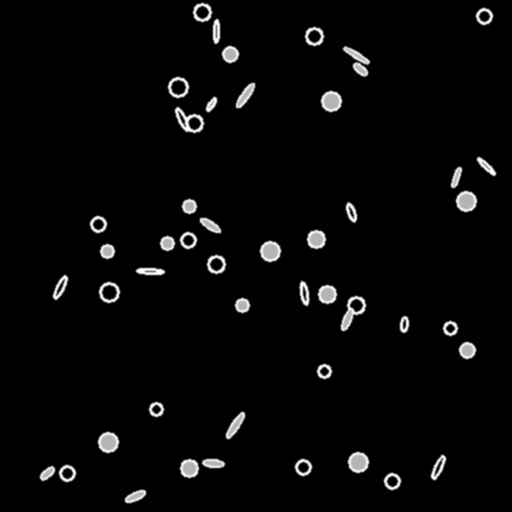pseudomonas: (224, 411, 246, 439), (234, 82, 256, 108), (342, 45, 370, 65), (51, 274, 69, 300), (198, 216, 222, 234), (430, 454, 446, 480), (476, 156, 496, 176), (174, 107, 190, 131), (340, 307, 354, 331), (124, 489, 146, 503), (450, 166, 462, 188), (39, 465, 55, 481), (352, 61, 368, 77), (299, 281, 309, 305), (345, 202, 357, 222), (205, 96, 217, 112), (202, 459, 224, 467), (137, 268, 163, 274), (213, 20, 219, 42), (400, 316, 408, 332)
synechocystis: (100, 283, 118, 301), (322, 92, 340, 110), (261, 242, 279, 260), (457, 192, 475, 210), (99, 433, 117, 451), (169, 78, 187, 96), (349, 453, 367, 471), (186, 115, 202, 131), (308, 231, 324, 247), (181, 460, 197, 476), (319, 286, 335, 302), (306, 28, 322, 44), (208, 256, 224, 272), (348, 297, 364, 313), (194, 4, 210, 20), (181, 233, 195, 247), (91, 217, 105, 231), (385, 474, 399, 488), (223, 47, 237, 61), (460, 343, 474, 357), (60, 466, 74, 480), (477, 9, 491, 23), (296, 460, 310, 474), (318, 365, 330, 377), (161, 237, 173, 249), (183, 200, 195, 212), (444, 322, 456, 334), (101, 245, 113, 257), (236, 299, 248, 311), (150, 403, 162, 415)
